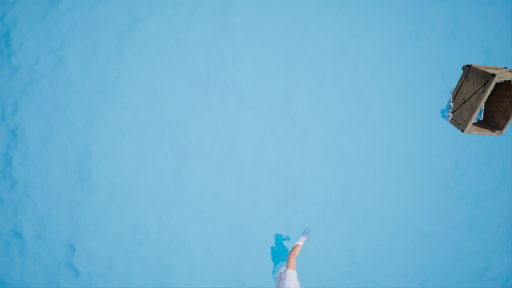person: (252, 223, 318, 288)
